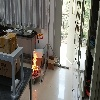fire: (32, 49, 39, 76), (34, 40, 36, 44)
